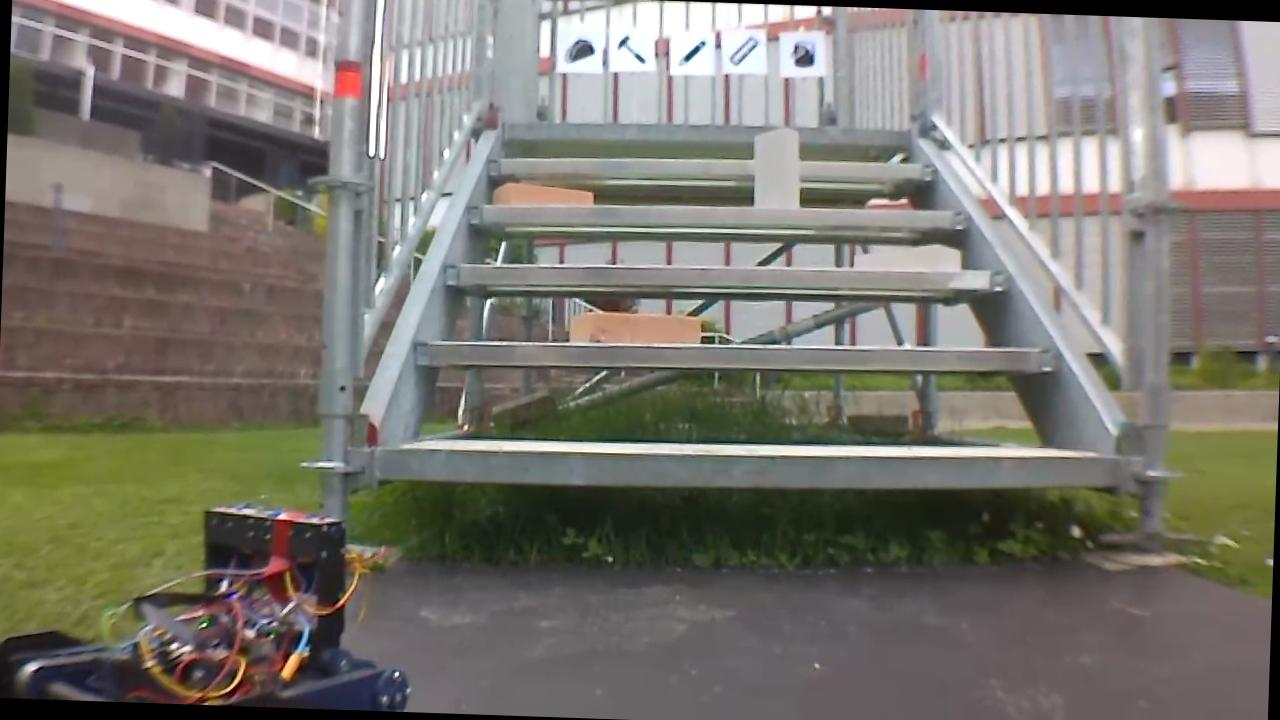brick: (569, 311, 699, 344), (753, 127, 801, 208), (863, 241, 960, 272), (492, 181, 593, 207)
bucket: (786, 36, 816, 70)
edge: (379, 433, 1123, 499), (416, 328, 1054, 382), (445, 251, 1005, 299), (466, 194, 968, 234), (491, 148, 939, 186), (503, 116, 918, 147)
hammer: (608, 27, 653, 66)
pencil: (675, 35, 712, 71)
ruler: (725, 32, 762, 70)
steps: (371, 105, 1149, 511)
taco: (563, 31, 597, 66)
